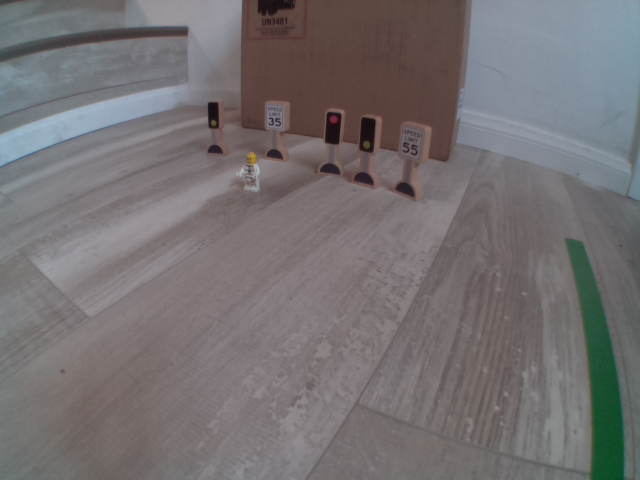Green Traffic Light: (204, 93, 229, 133), (356, 109, 377, 156)
Red Traffic Light: (321, 110, 346, 150)
Speed Limit 35: (261, 100, 289, 134)
Speed Limit 55: (398, 121, 424, 163)
person: (235, 150, 263, 193)
